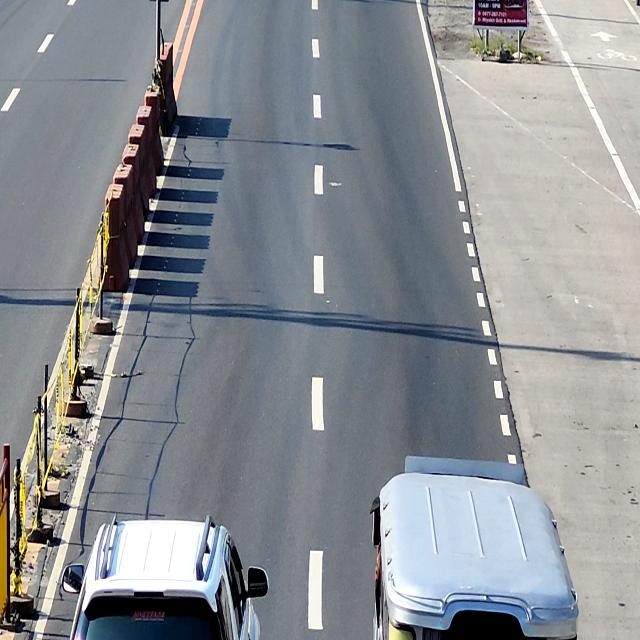Car: (63, 517, 269, 640)
Jeep: (369, 454, 580, 640)
